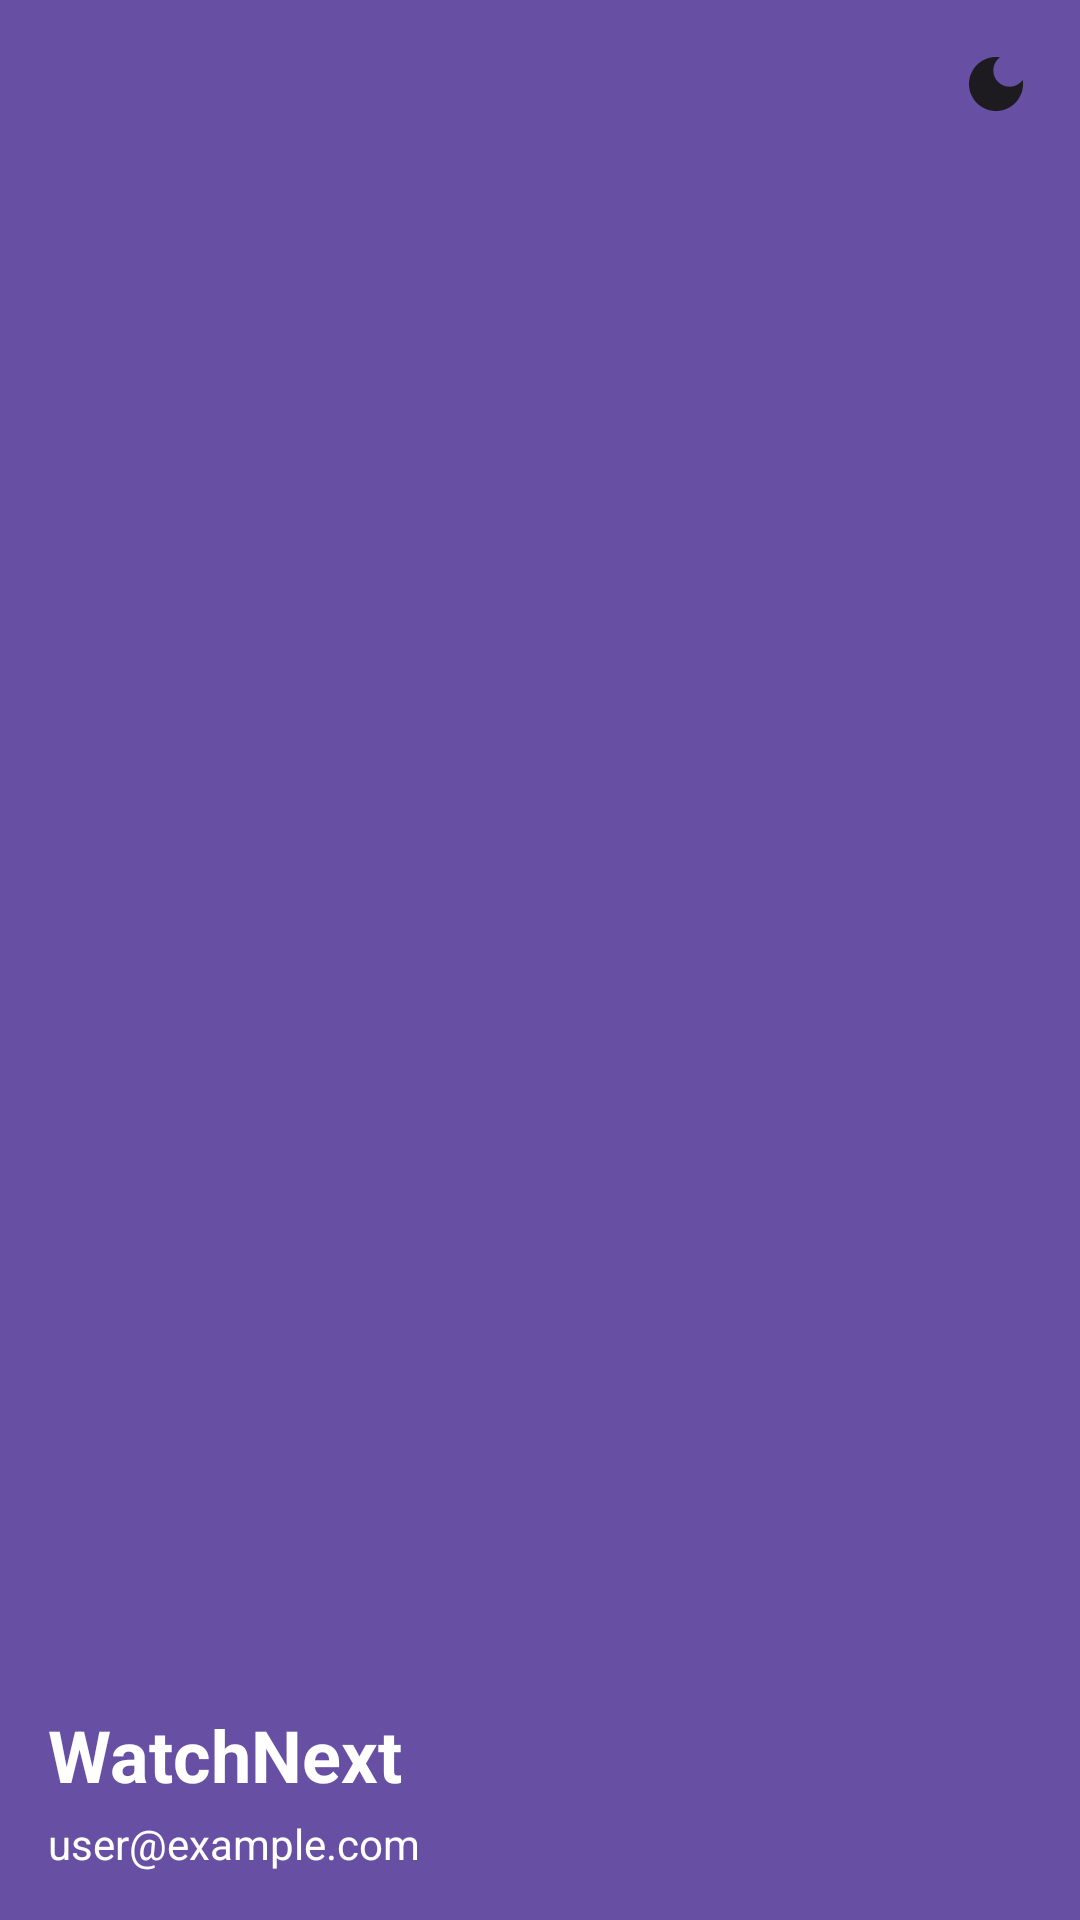

Named icons in this screenshot (1080*1920) and their centers, (x,y):
Toggle dark mode: (996,84)
